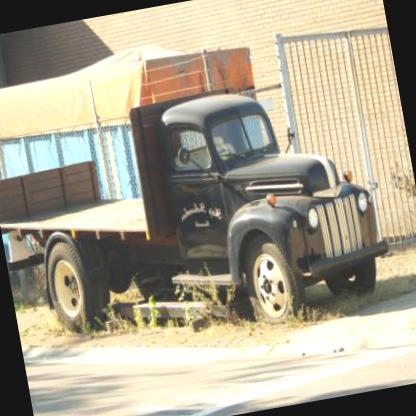truck: (0, 30, 402, 382)
